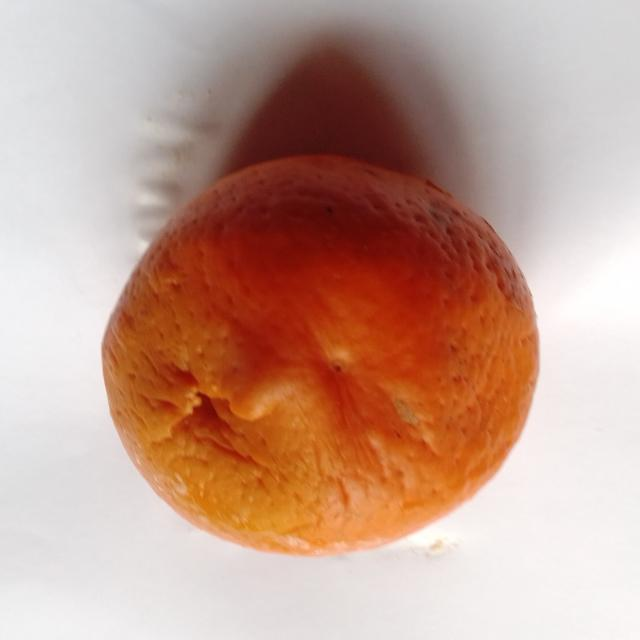orange: (103, 156, 537, 554)
